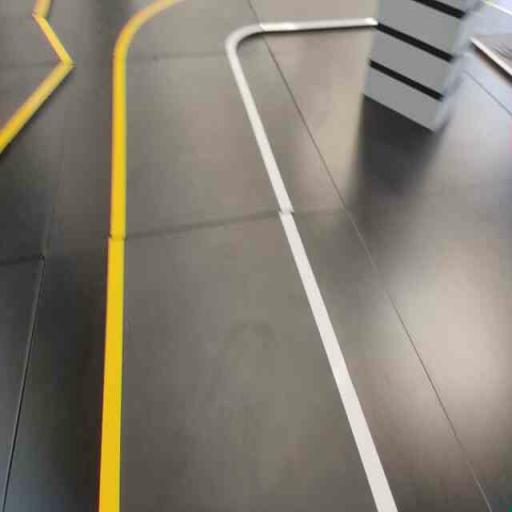straight: (15, 206, 472, 505)
